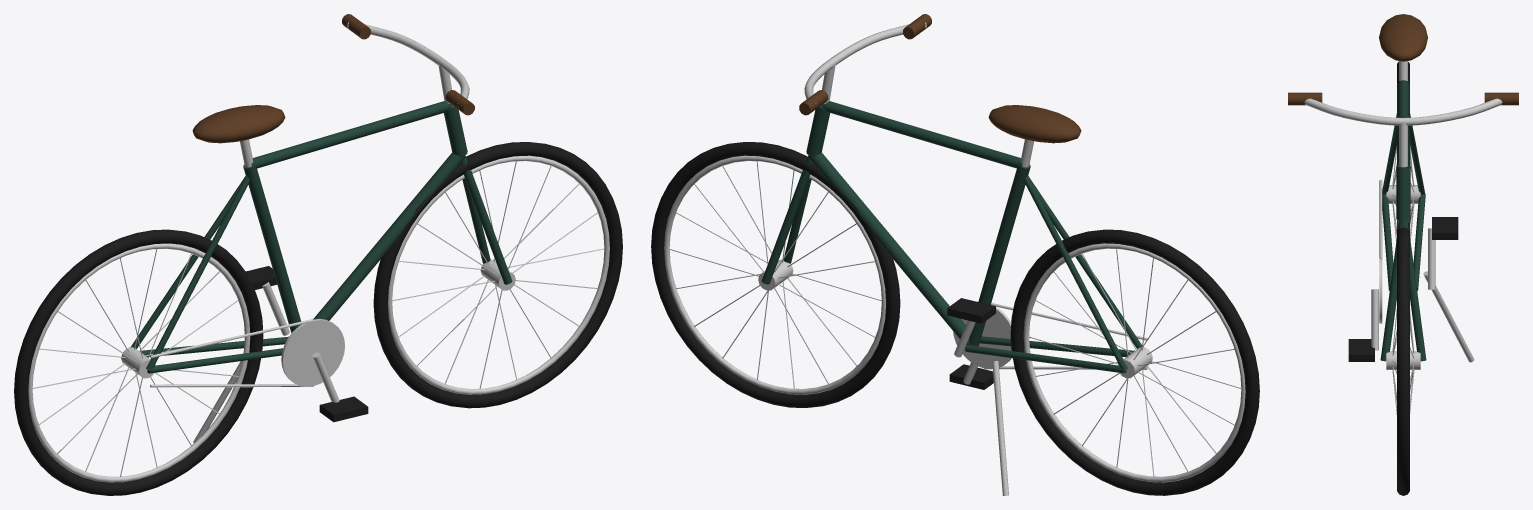
File: p-bici.glb
The picture shows the model from 3 angles, left to right: view 1: azimuth 30°, elevation 25°; view 2: azimuth 150°, elevation 25°; view 3: azimuth 270°, elevation 25°; orthographic projection. The views are drawn at different scales.
Size of the model in its own units: 1.76 by 1.02 by 0.61.
